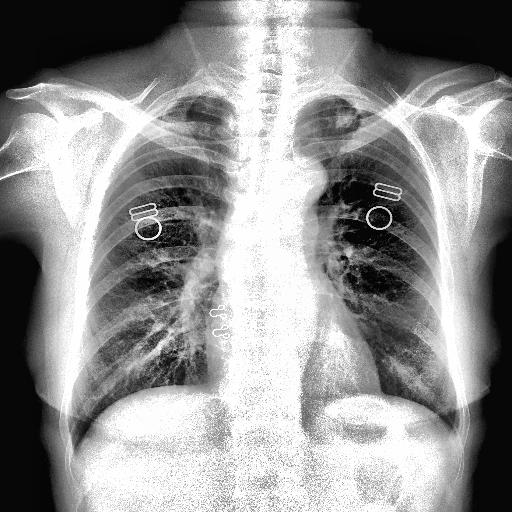0- Aortic enlargement: (272, 154, 330, 206)
13- Pulmonary fibrosis: (300, 102, 366, 164), (324, 106, 363, 130)
7- Lung Opacity: (332, 100, 357, 129)
